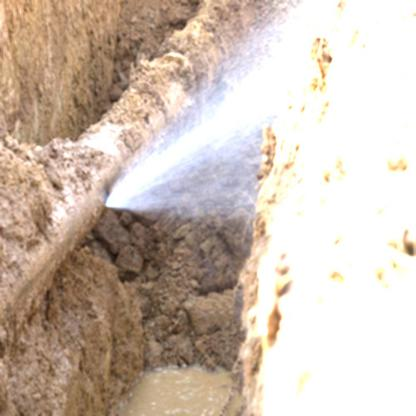burst: (84, 160, 143, 237)
